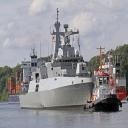Fragata: (18, 7, 98, 111)
